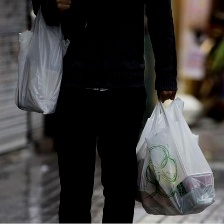plastic_bag: (137, 94, 218, 218), (8, 0, 74, 117)
